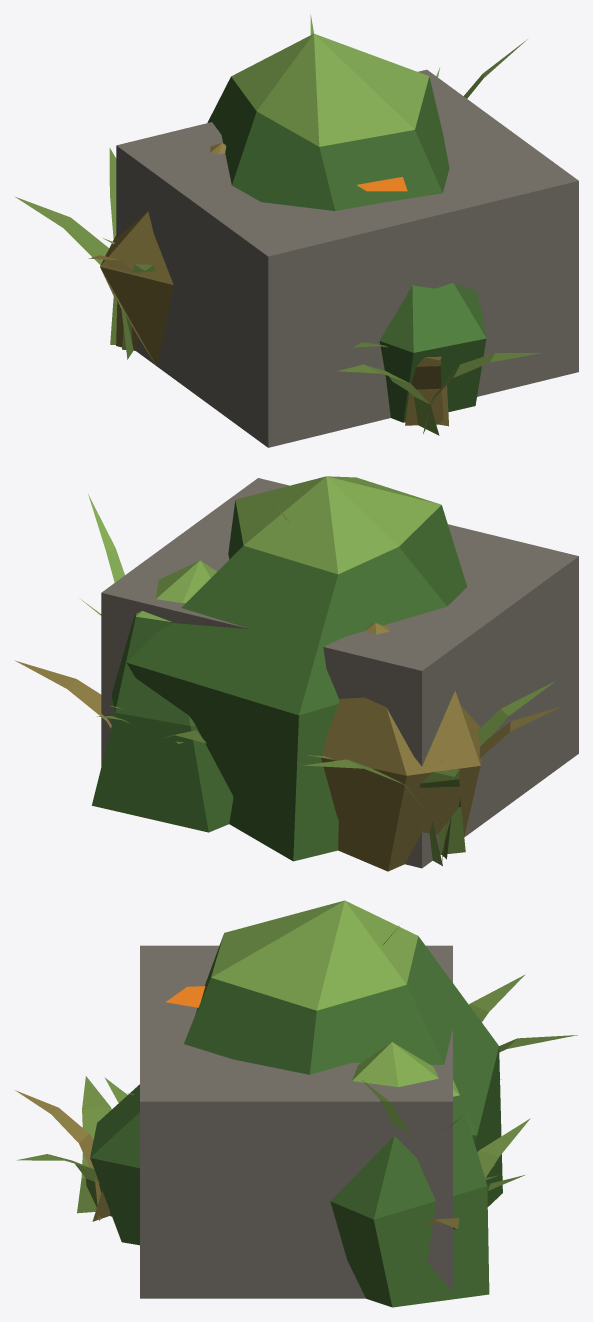
Rendered from props_plains.glb.
The picture shows the model from 3 angles, top to bottom: view 1: azimuth 30°, elevation 25°; view 2: azimuth 150°, elevation 25°; view 3: azimuth 270°, elevation 25°; orthographic projection. The views are drawn at different scales.
Visible parts, largest first — view 1: col_Plains_PebbleB, Plains_Shrub_LOD0, Plains_GrassTuftB_LOD0; view 2: Plains_Shrub_LOD0, col_Plains_PebbleB, Plains_GrassTuftB_LOD0; view 3: Plains_Shrub_LOD0, col_Plains_PebbleB, Plains_GrassTuftB_LOD0, Plains_FlowerCluster_LOD0.
Boxes of the visible parts, x1,y1,x2,y2 form: col_Plains_PebbleB: (116,69,578,447); Plains_Shrub_LOD0: (100,33,486,422); Plains_GrassTuftB_LOD0: (15,14,541,435); Plains_Shrub_LOD0: (92,476,480,871); col_Plains_PebbleB: (101,478,578,868); Plains_GrassTuftB_LOD0: (15,494,561,865); Plains_Shrub_LOD0: (90,900,502,1307); col_Plains_PebbleB: (140,945,452,1298); Plains_GrassTuftB_LOD0: (15,926,577,1229); Plains_FlowerCluster_LOD0: (165,986,205,1007).
Size of what is drawn, in the model's own units: 1.3 by 0.8 by 1.3.
